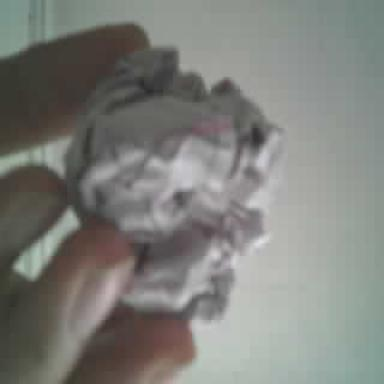paper: (65, 48, 282, 320)
